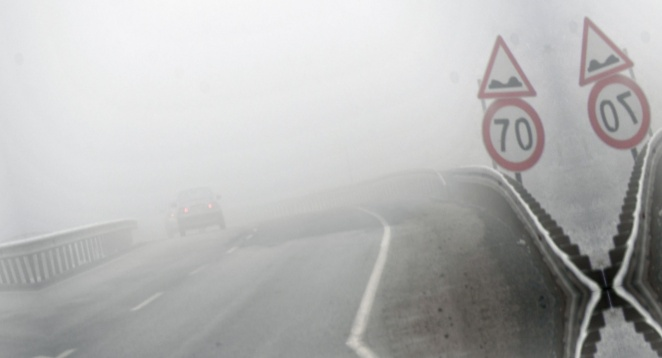Speed limit: (476, 94, 546, 169), (587, 77, 654, 149)
Uneven road: (474, 26, 536, 101), (575, 13, 635, 79)
